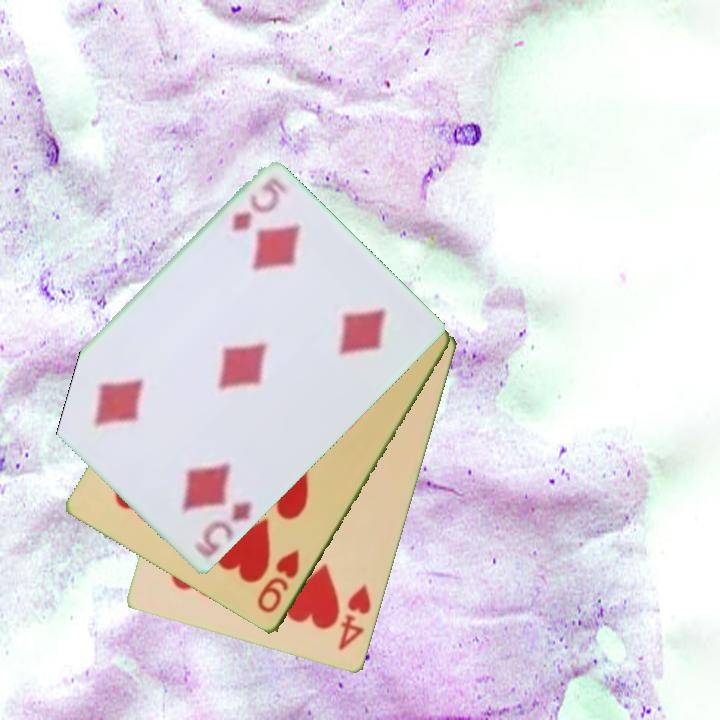4h: (335, 581, 375, 654)
5d: (190, 497, 256, 562), (228, 187, 277, 235)
9h: (253, 546, 303, 617)
